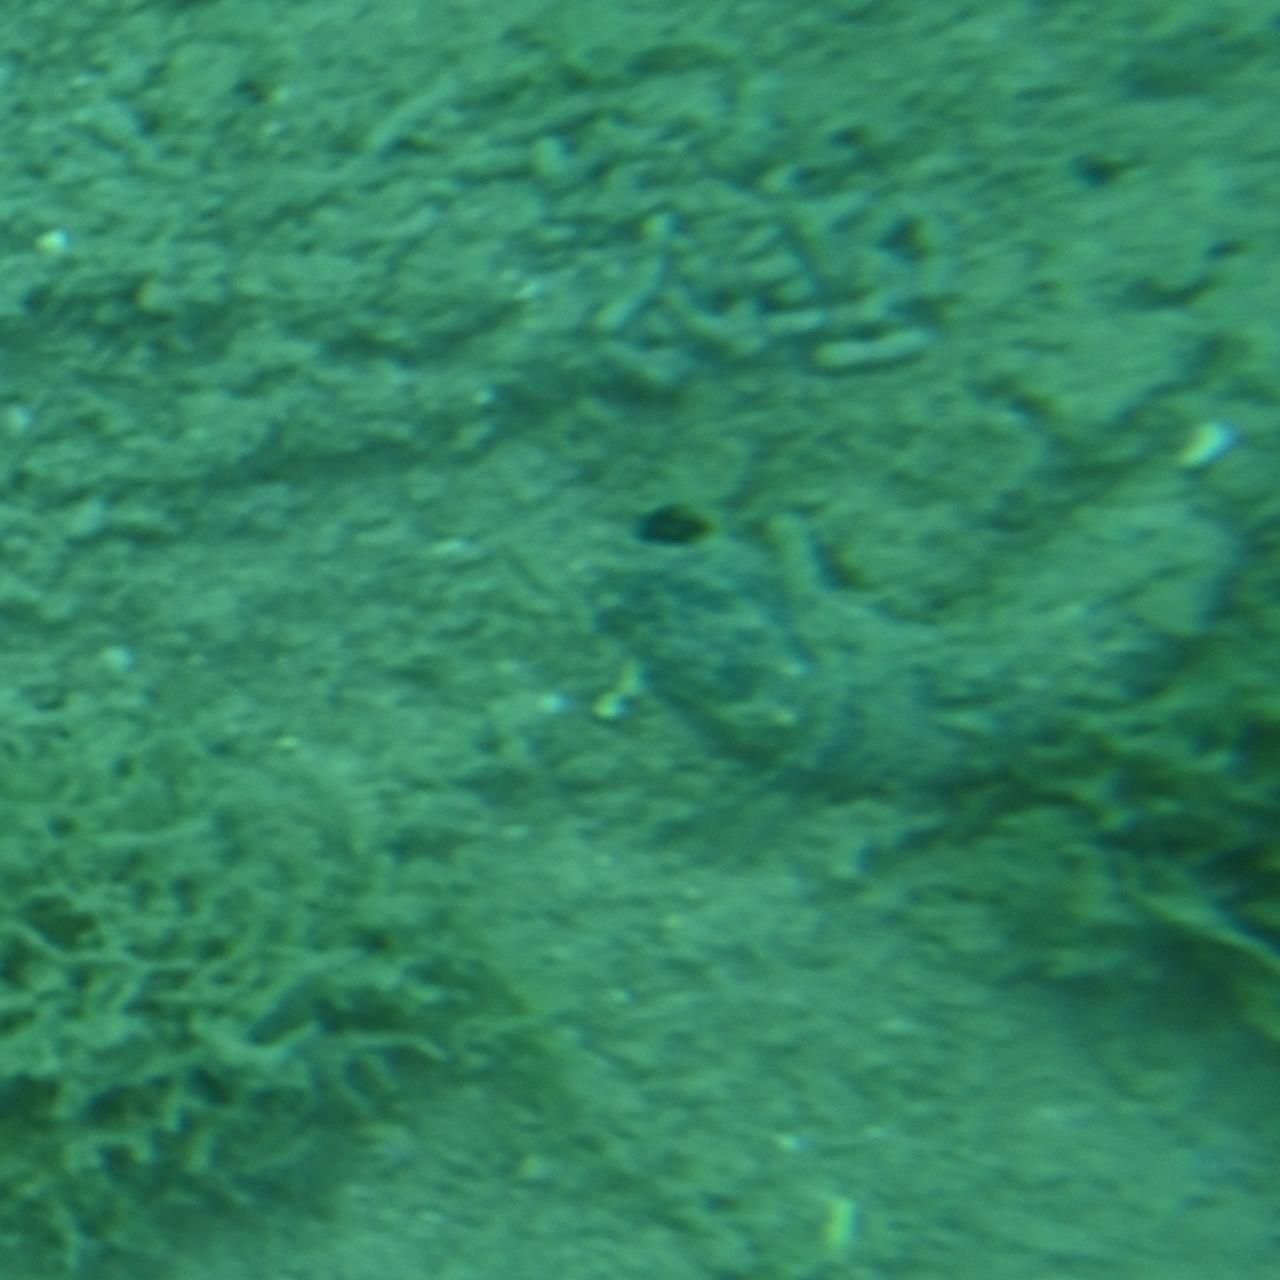Holothuria tubulosa: (590, 477, 1232, 803)
